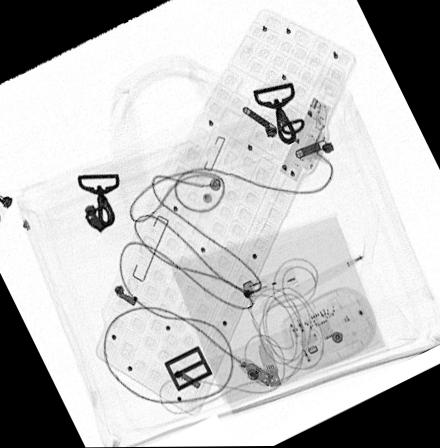Lighter: (240, 262, 298, 306)
